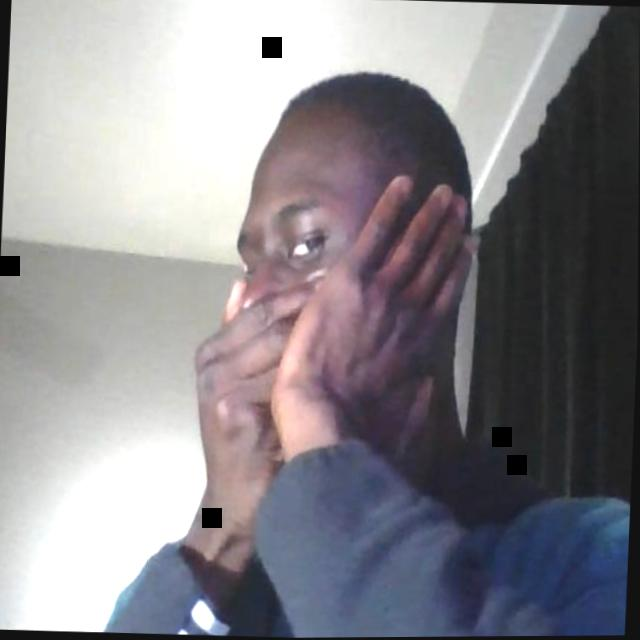NO-Mask: (231, 151, 397, 325)
